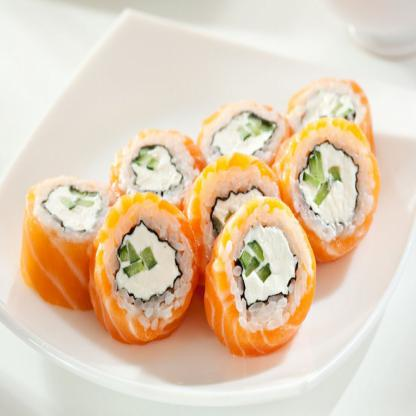philadelphia: (199, 198, 326, 366)
